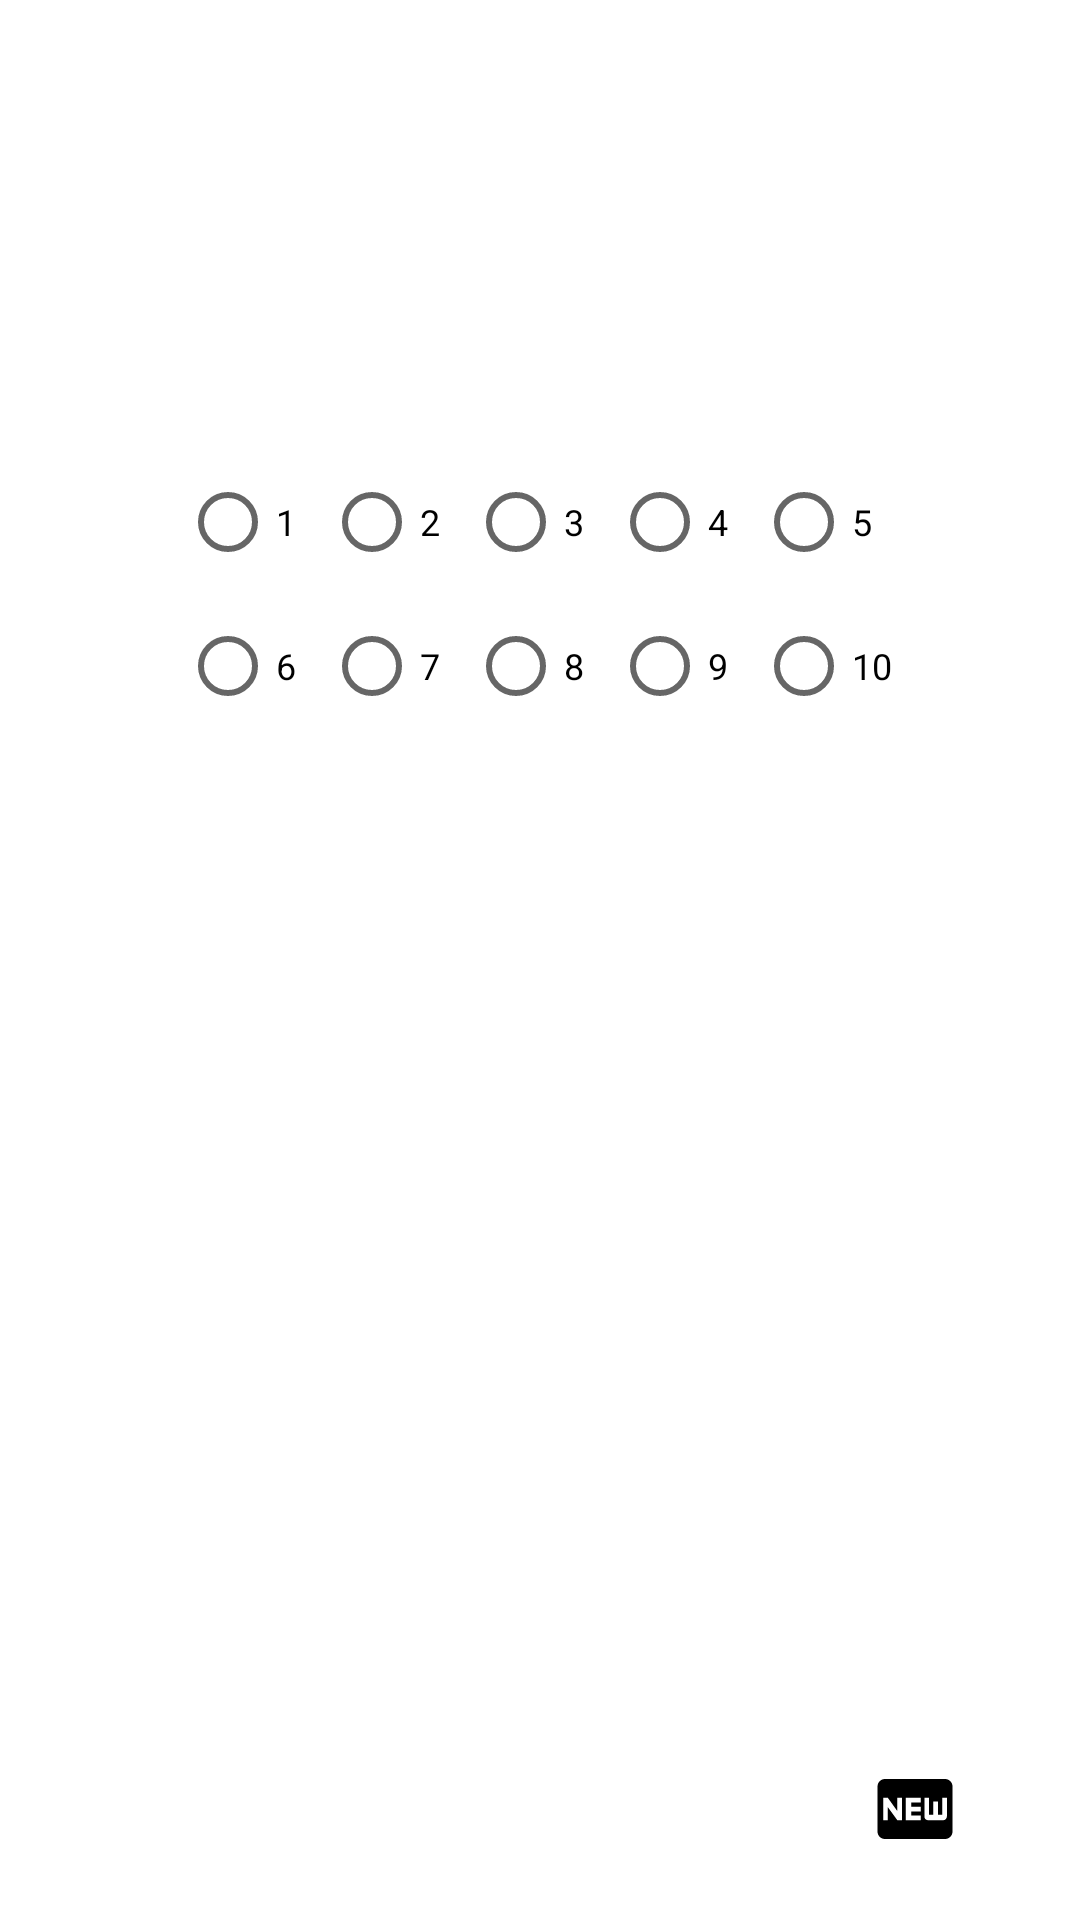

Named icons in this screenshot (1080*1920) and their centers, (x,y):
nova tarefa: (915,1809)
